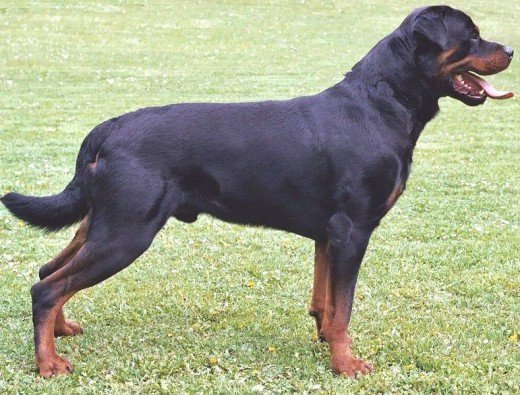tail: (1, 162, 90, 239)
